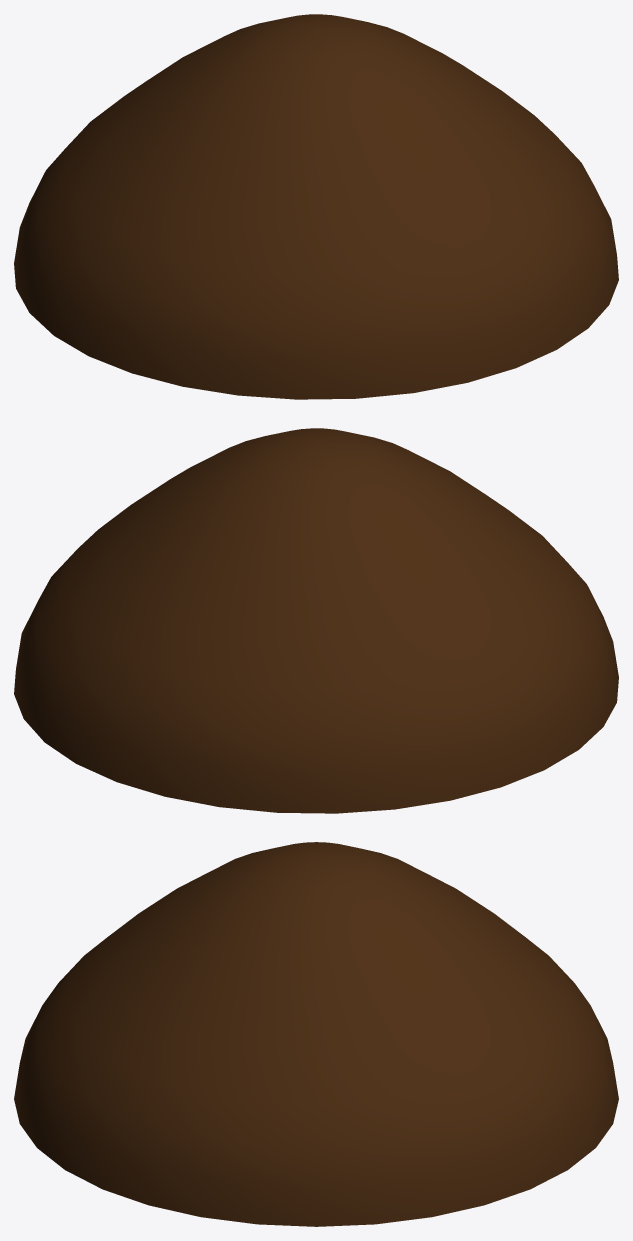
The model's file is Mote.fbx.
The picture shows the model from 3 angles, top to bottom: view 1: azimuth 30°, elevation 25°; view 2: azimuth 150°, elevation 25°; view 3: azimuth 270°, elevation 25°; orthographic projection.
Parts seen in each view (by area): view 1: Mote; view 2: Mote; view 3: Mote.
Part boxes in pixels (left/top/right/bottom): Mote: left=14, top=14, right=618, bottom=399; Mote: left=14, top=428, right=618, bottom=813; Mote: left=14, top=842, right=618, bottom=1226.
Bounding box in the file's own units: 2689 × 1191 × 2689.
